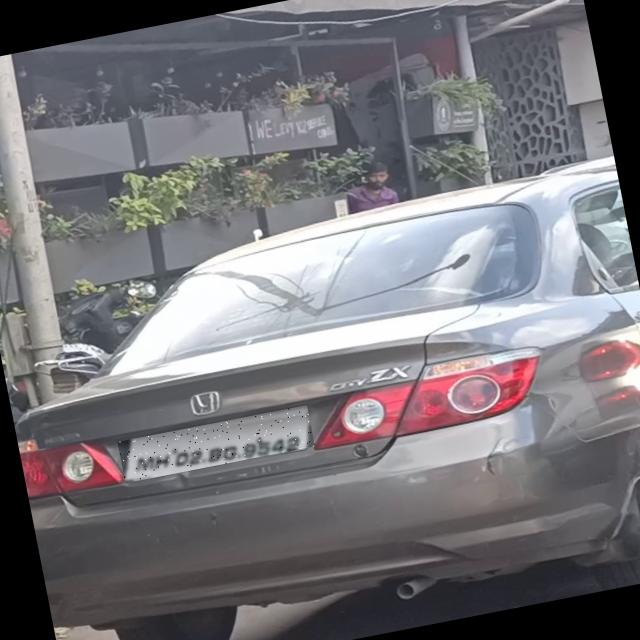Plate: (119, 406, 316, 484)
